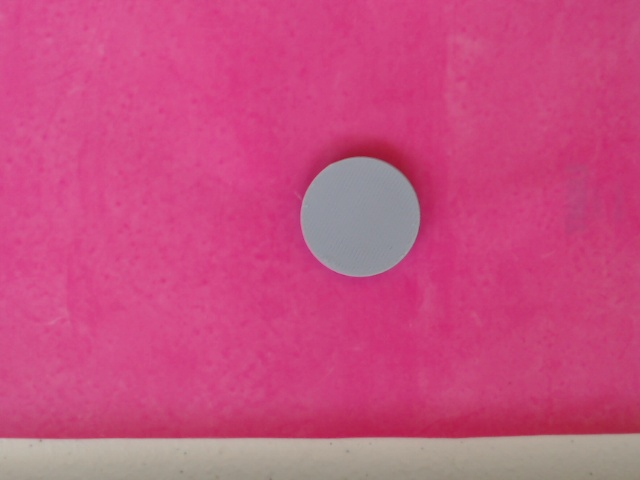NonDefective: (297, 154, 425, 282)
